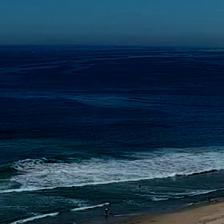surfer: (34, 161, 36, 164)
